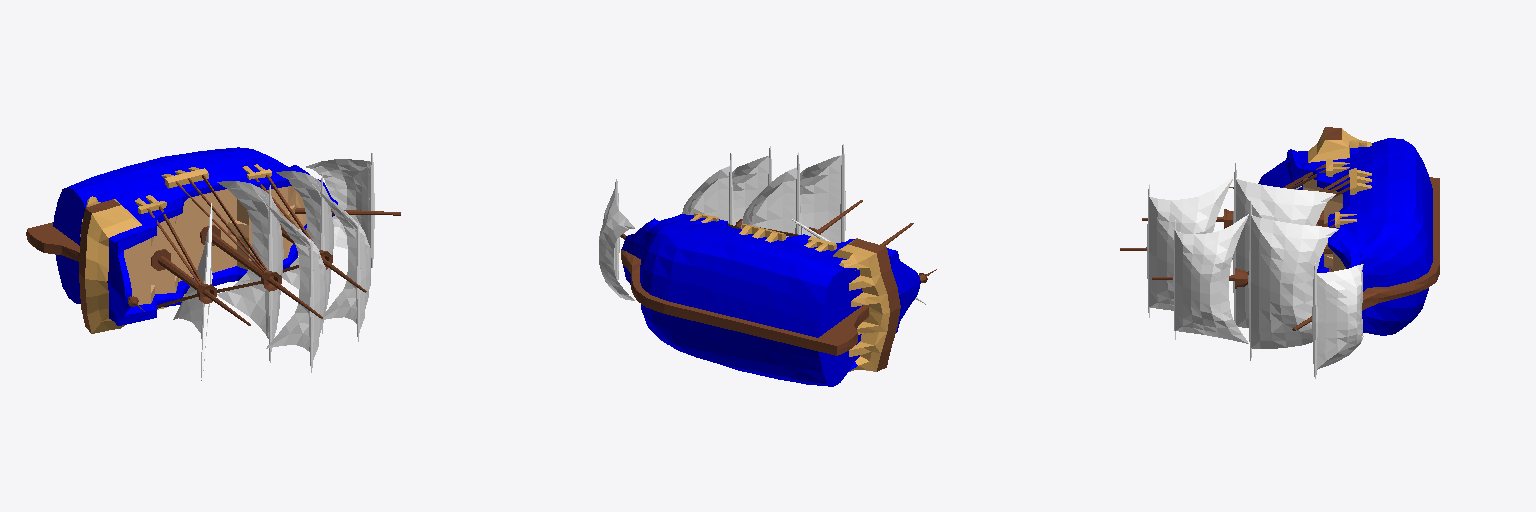
Rendered from pship.obj.
3 views of the same model, side by side, from view 1: azimuth 30°, elevation 25°; view 2: azimuth 150°, elevation 25°; view 3: azimuth 270°, elevation 25° (orthographic).
Parts seen in each view (by area): view 1: objhull, objdeck, objsail2, objsail1, objaft, objsail6, objsail4, objsail5, objmast2, objmast3, objsail3, objkeel (+3 smaller); view 2: objhull, objkeel, objaft, objsail1, objsail2, objsail6, objsail5, objsail4, objwindows, objrig; view 3: objhull, objsail5, objsail4, objsail1, objsail6, objsail2, objkeel, objaft, objrig, objdeck.
Boxes of the visible parts, box(x1,y1,x2,y2) form: objhull: box(53, 147, 337, 325); objdeck: box(124, 186, 305, 304); objsail2: box(217, 181, 283, 362); objsail1: box(266, 204, 326, 372); objaft: box(80, 196, 141, 333); objsail6: box(306, 153, 374, 267); objsail4: box(319, 191, 370, 341); objsail5: box(276, 171, 333, 333); objmast2: box(176, 175, 322, 318); objmast3: box(147, 206, 250, 325); objsail3: box(173, 203, 212, 380); objkeel: box(26, 222, 79, 261); objhull: box(621, 214, 920, 386); objkeel: box(621, 250, 868, 355); objaft: box(833, 238, 889, 371); objsail1: box(800, 144, 845, 242); objsail2: box(741, 152, 800, 237); objsail6: box(599, 179, 634, 300); objsail5: box(682, 153, 732, 224); objsail4: box(732, 146, 771, 225); objwindows: box(849, 238, 900, 371); objrig: box(690, 213, 836, 251); objhull: box(1258, 138, 1432, 335); objsail5: box(1248, 201, 1338, 360); objsail4: box(1173, 214, 1248, 343); objsail1: box(1147, 177, 1233, 317); objsail6: box(1312, 263, 1363, 378); objsail2: box(1233, 163, 1335, 327); objkeel: box(1362, 177, 1439, 310); objaft: box(1308, 128, 1371, 162); objrig: box(1326, 159, 1371, 228); objdeck: box(1303, 178, 1345, 271).
Bounding box in the file's own units: 80.69 × 45 × 73.54.